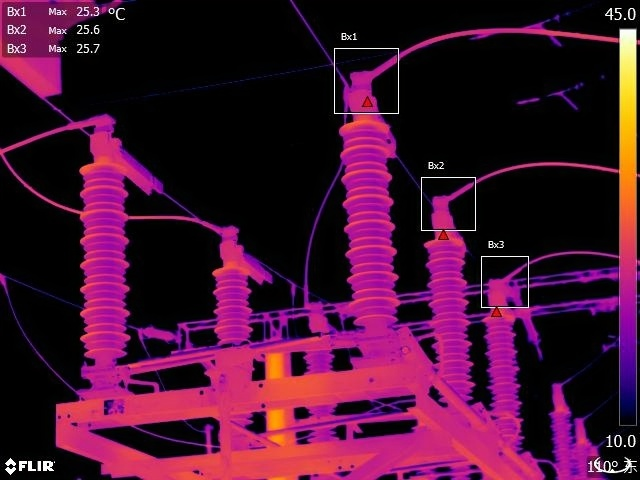clamp: (286, 276, 302, 299)
post insulator: (341, 120, 406, 326), (77, 162, 135, 362), (425, 234, 476, 403), (484, 305, 524, 444), (212, 261, 253, 350), (302, 349, 338, 444), (550, 413, 575, 480)
switch: (87, 112, 167, 201), (346, 65, 398, 158), (213, 214, 276, 288), (427, 185, 467, 246), (548, 373, 572, 415)
